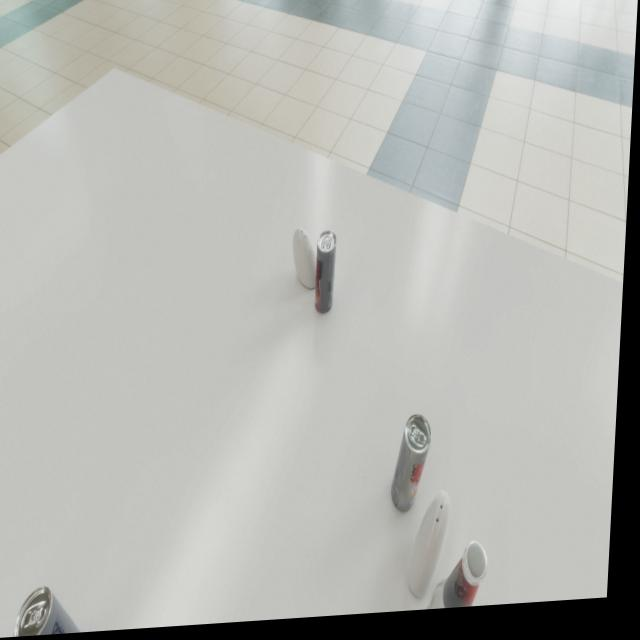Bottle: (422, 547, 495, 617)
Rita_zero_sugar: (396, 419, 438, 519), (20, 585, 95, 638), (317, 235, 340, 319)
Salt: (413, 497, 457, 604), (293, 231, 325, 294)
